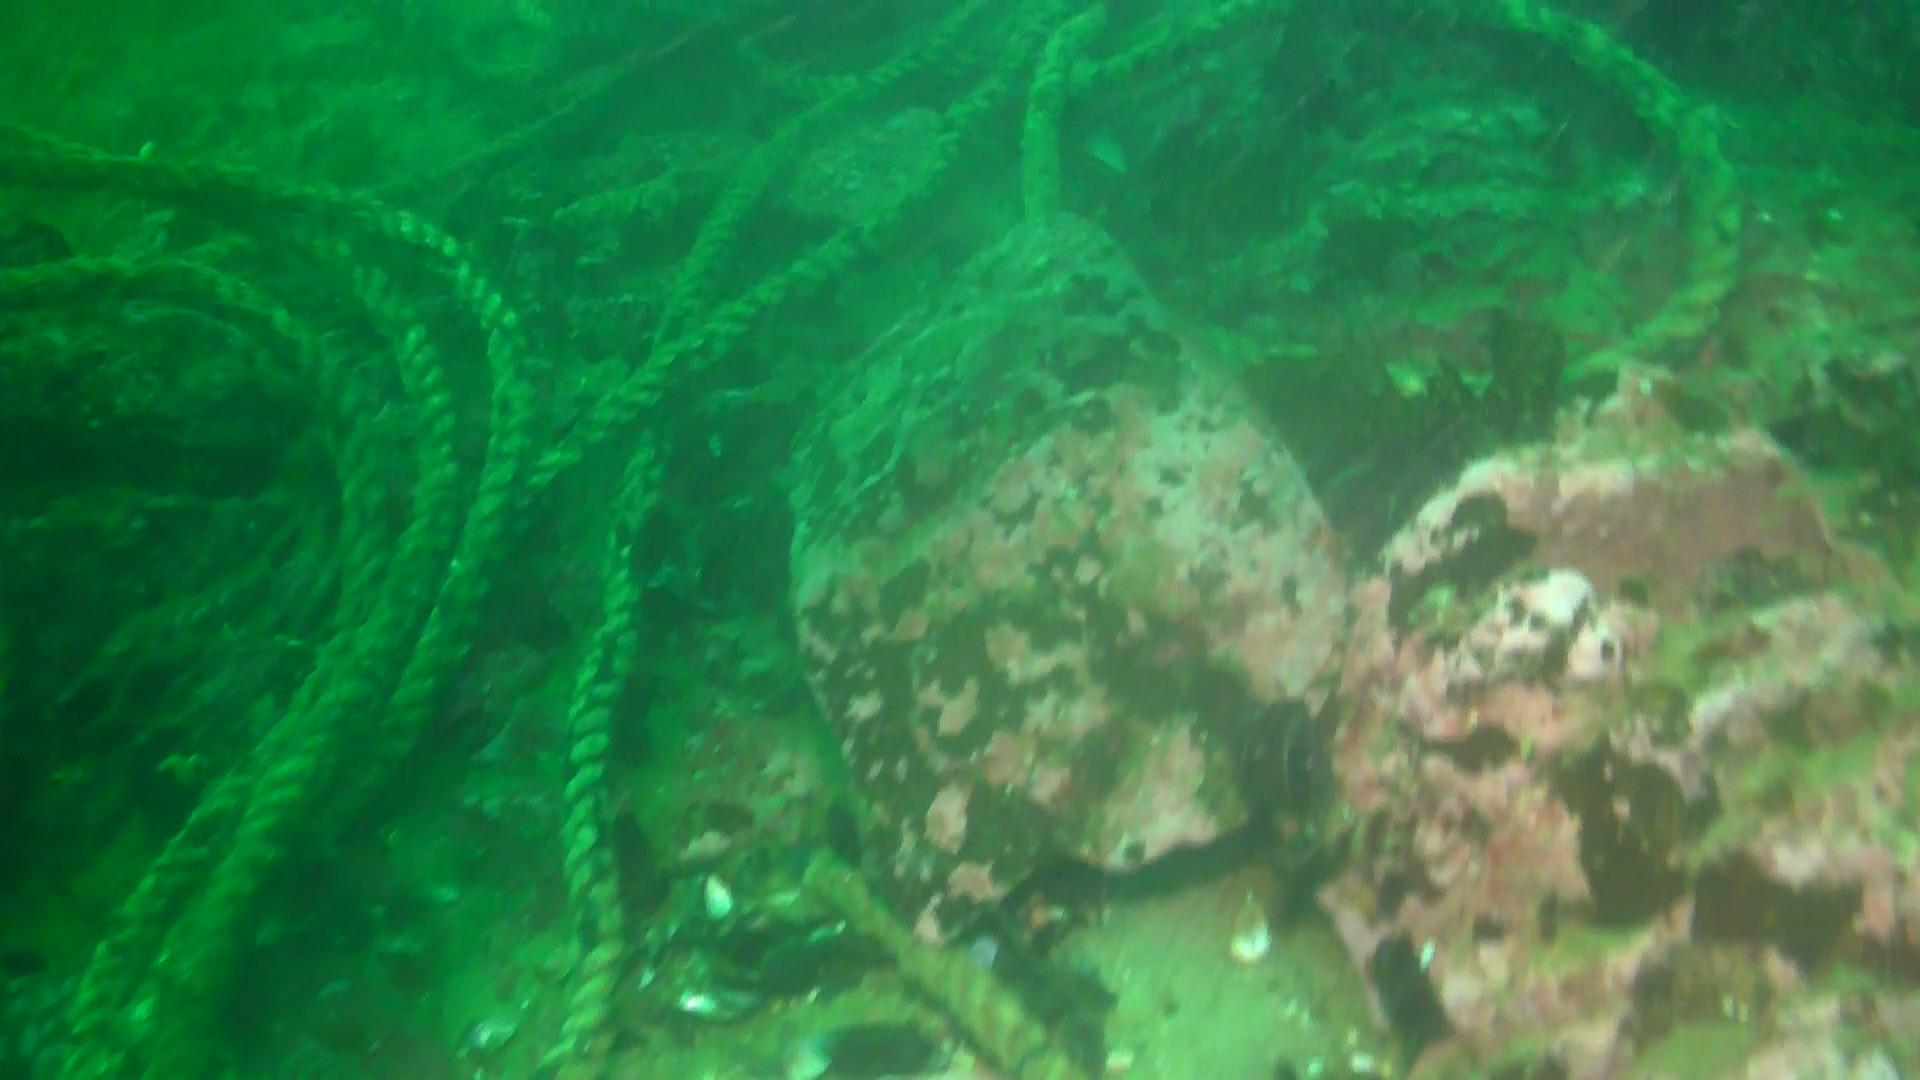bundle of ropes: (0, 1, 1745, 1080)
